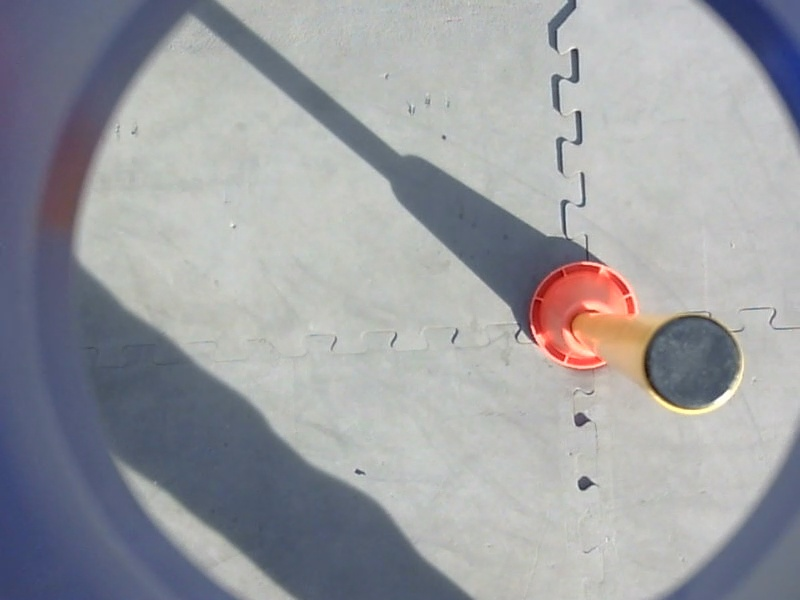tip: (635, 307, 750, 418)
